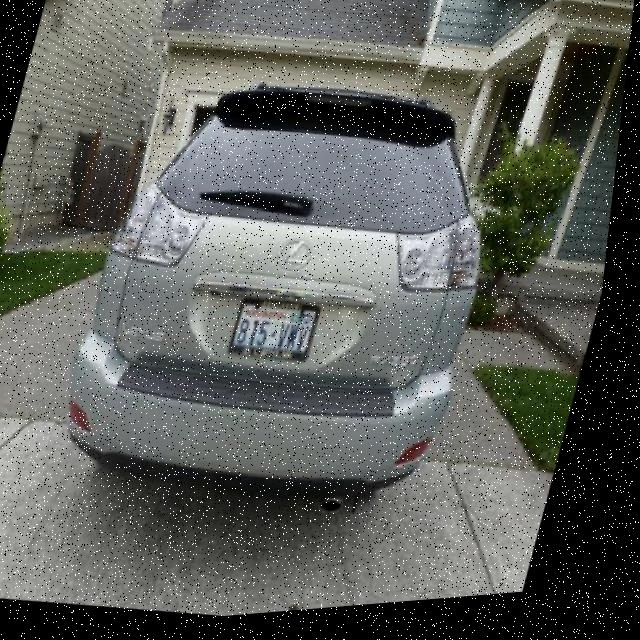license_plate: (235, 298, 330, 373)
